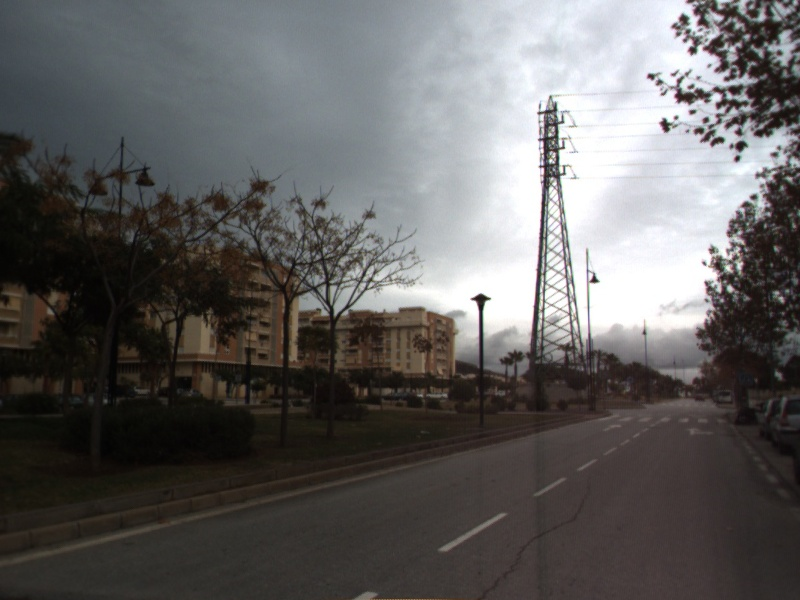STRAIGHT: (600, 422, 625, 434)
STRAIGHT_RIGHT: (682, 425, 717, 438)
